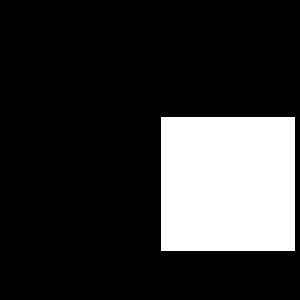circle: (161, 117, 295, 251)
